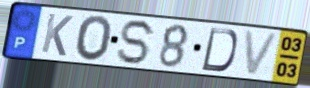8: (157, 23, 191, 69)
D: (199, 26, 240, 74)
K: (39, 12, 75, 58)
O: (74, 14, 114, 63)
S: (115, 18, 159, 66)
V: (242, 29, 282, 78)
